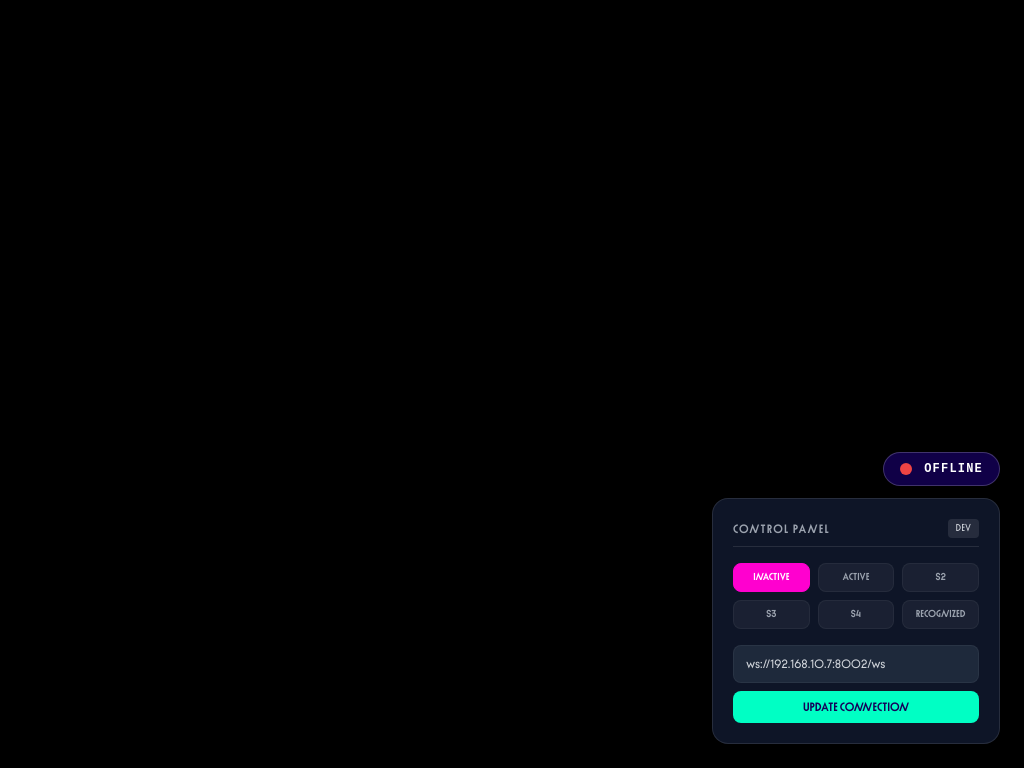
Scenario: Stranger Dream - Component Tests › Dev Panel › should switch to step_2 state when clicking S2 button
This screenshot has width=1024, height=768.
Click the button "S2" at (941, 578), box [902,563,979,592]
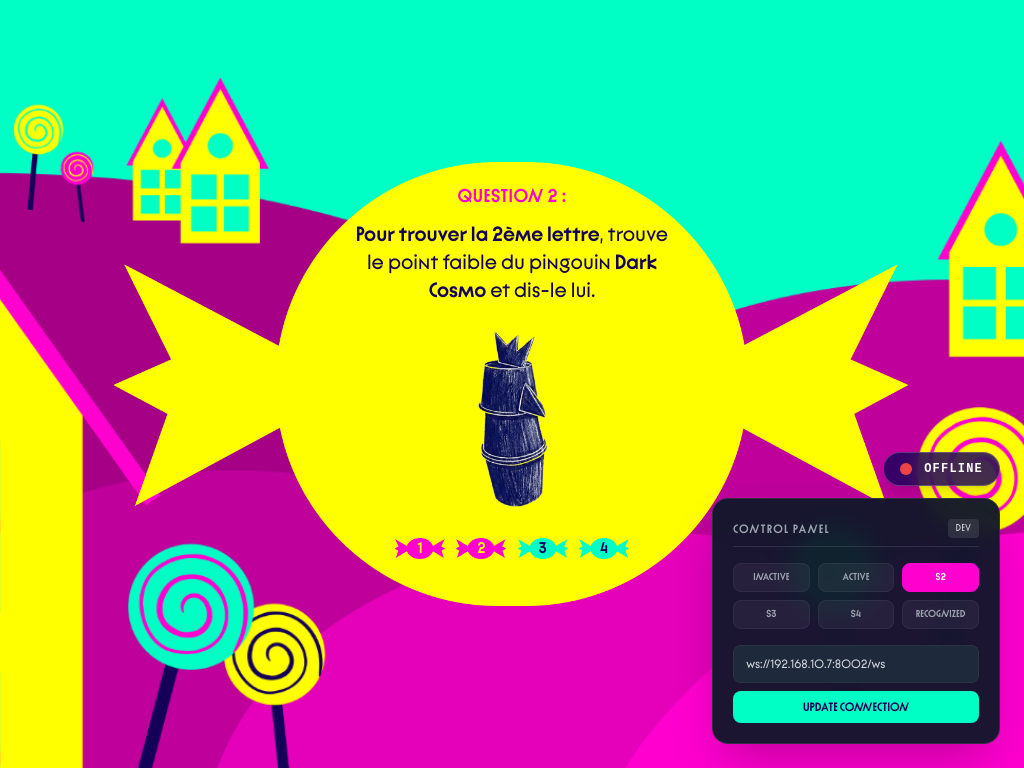
Expected: the heading "QUESTION 2 :" is shown, [458,183,566,210]
